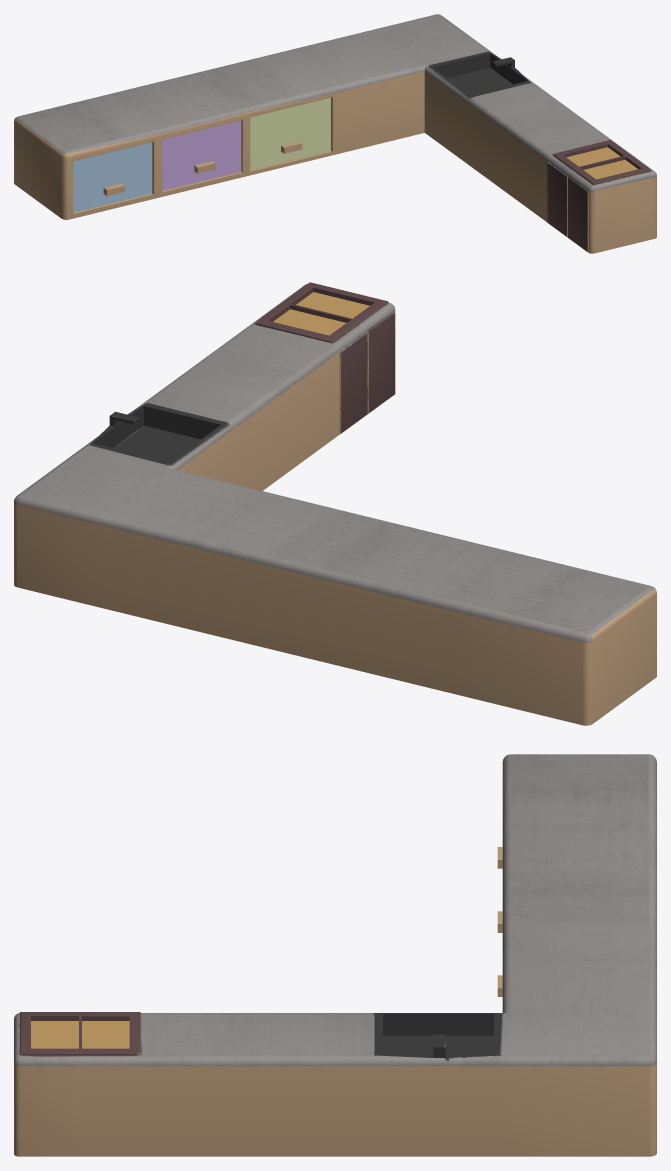
The model's file is Mesh_Enviro_Donut_Cake_Desk.fbx.
3 views of the same model, one above another, from view 1: azimuth 30°, elevation 25°; view 2: azimuth 150°, elevation 25°; view 3: azimuth 270°, elevation 25° (orthographic). The views are drawn at different scales.
Visible parts, largest first — view 1: cake_n_donut_desk; view 2: cake_n_donut_desk; view 3: cake_n_donut_desk.
Boxes of the visible parts, left/top/right/bottom form: cake_n_donut_desk: left=14, top=14, right=656, bottom=253; cake_n_donut_desk: left=14, top=282, right=656, bottom=725; cake_n_donut_desk: left=14, top=754, right=656, bottom=1156.
Size of the model in its own units: 202 by 33.2 by 178.
